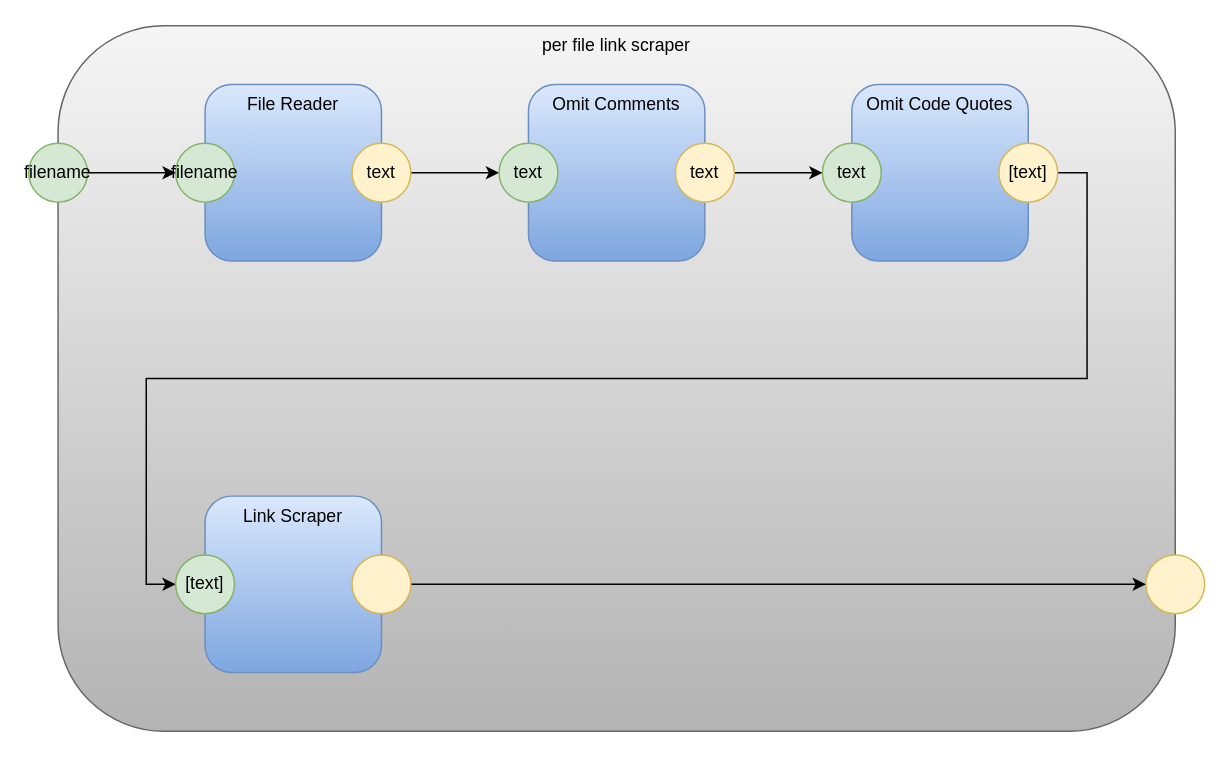
The diagram is 1230 pixels wide and 757 high, and some of its shapes have lost their labels. The shapes that lost their labels are listed below. From the top down, each one's centre as x and y in pixels, then its label:
At pixel 381 583: "[links]".
At pixel 1174 583: "output".
